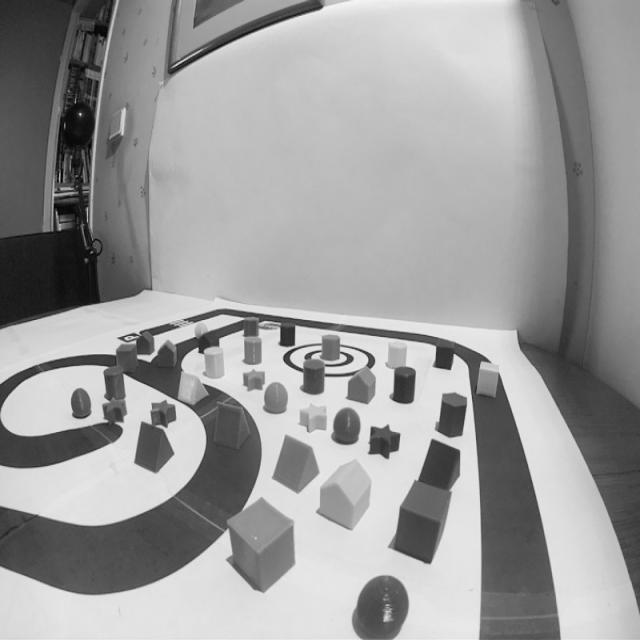ball: (352, 573, 414, 640), (331, 406, 363, 448), (264, 379, 292, 417), (69, 385, 93, 422), (193, 321, 210, 341)
cockade: (282, 338, 379, 380)
cube: (225, 493, 301, 600), (394, 478, 453, 571), (114, 340, 141, 378), (475, 359, 501, 398), (434, 339, 456, 373)
cylinder: (300, 356, 327, 399), (393, 363, 418, 408), (102, 362, 127, 403), (203, 343, 226, 381), (243, 334, 263, 366)
hexagon: (437, 389, 469, 438)
home: (316, 455, 373, 534), (344, 363, 378, 407), (156, 338, 178, 370), (135, 330, 156, 356)
lineStraight: (467, 469, 570, 640)
star: (367, 421, 402, 463), (147, 398, 180, 430), (298, 402, 330, 434), (100, 396, 130, 428), (240, 366, 266, 394)
triangle: (270, 431, 322, 497), (132, 418, 178, 476), (417, 434, 462, 492), (211, 400, 255, 453), (176, 369, 210, 411)
